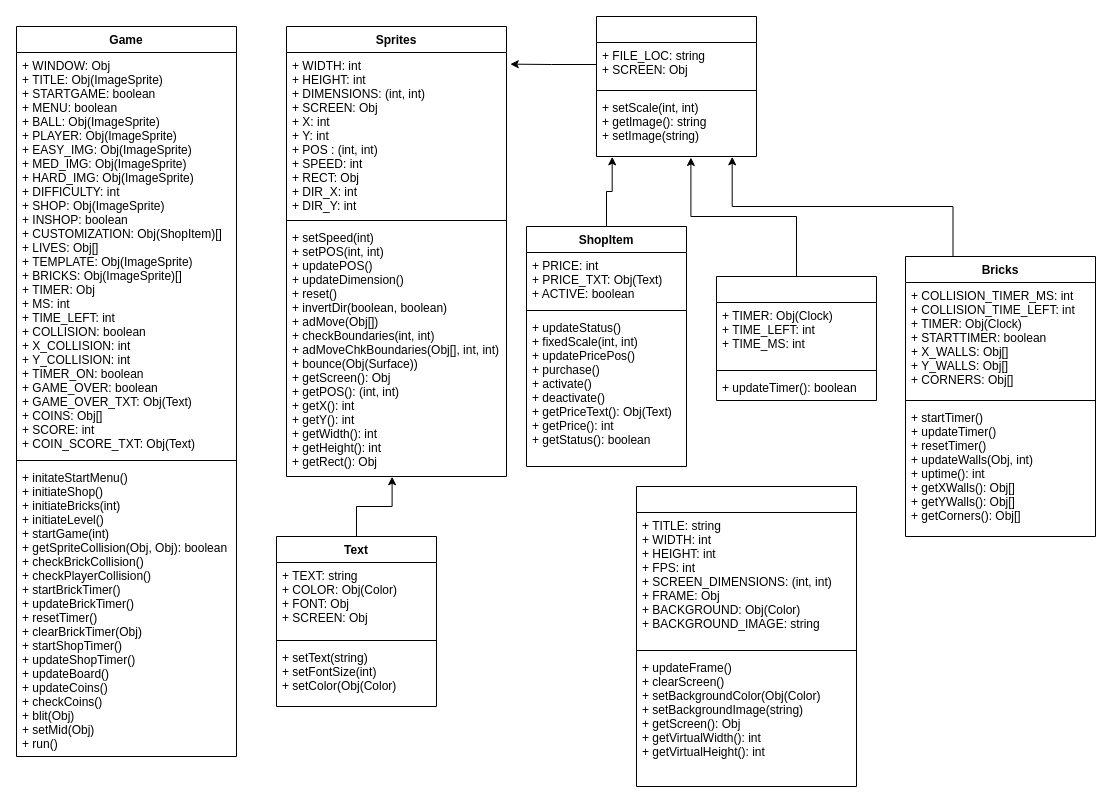
Image size: 1112x803. Some labels were removed from this diagram. The box of each missing label's shape, as (x1, y1, x2, y2) in pixels:
Coins: (716, 276, 876, 400)
ImageSprite: (596, 16, 756, 156)
Window: (636, 486, 856, 786)
